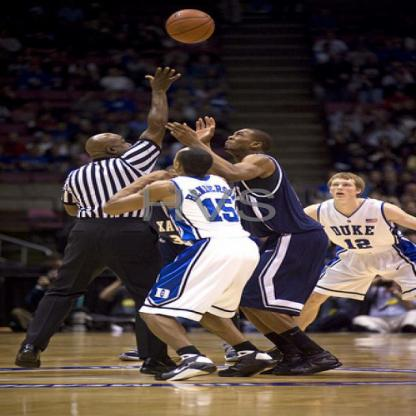basketball: (162, 8, 216, 45)
